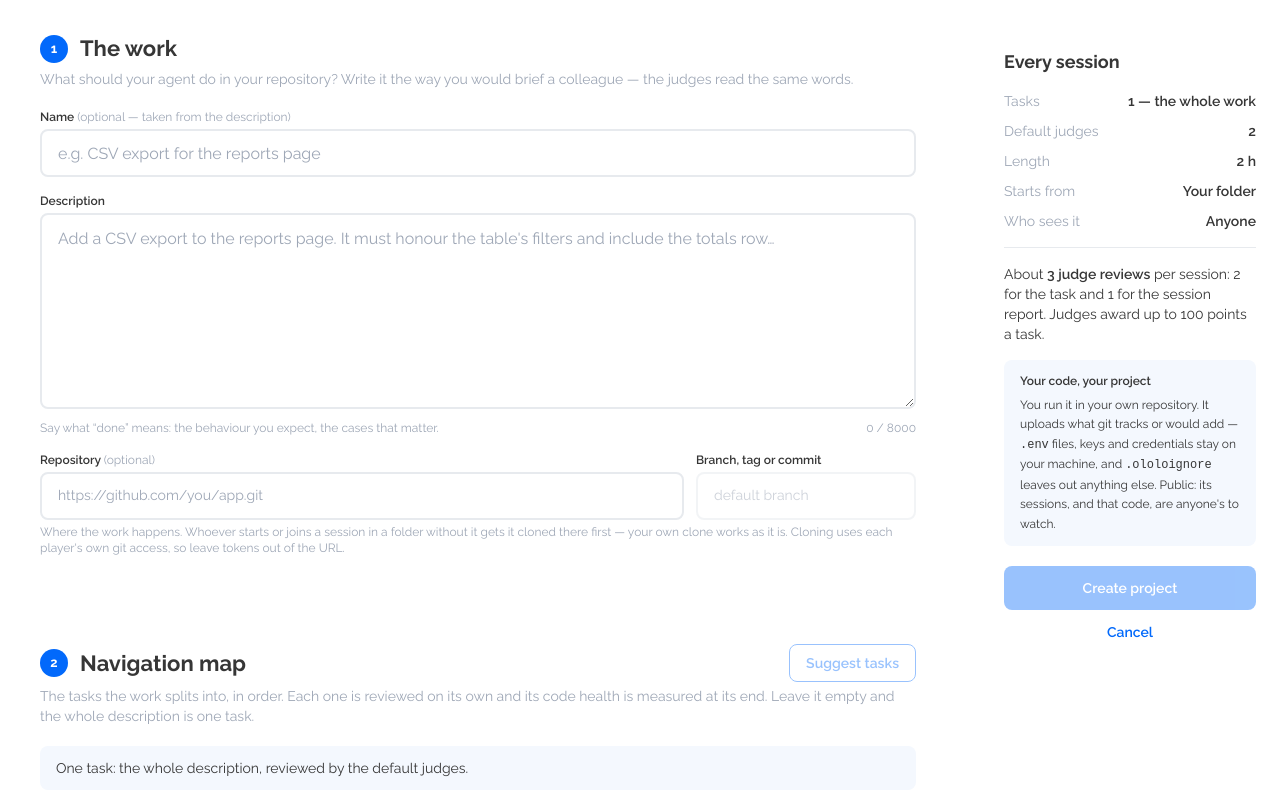
Scenario: PersonalProjectForm › names the repository the work happens in, and its ref only beside one
Expected: the field with test id "pp-repo-ref" is disabled, [696,472,916,520]
Expected: the text with test id "pp-repo-summary" reads "Your folder", [1183,183,1256,199]
Type "git@github.com:me/app.git" into the field with test id "pp-repo-url" at (362, 496), box [40,472,684,520]
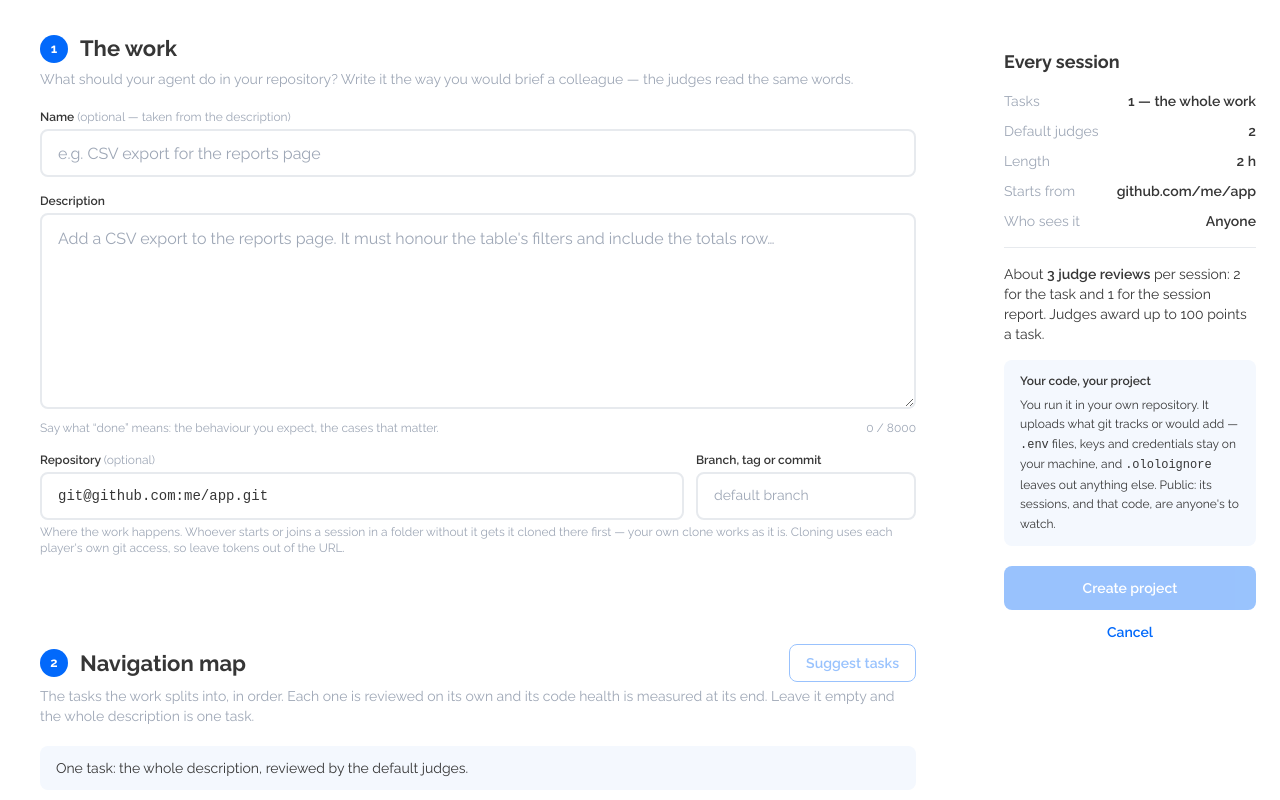
Now the field with test id "pp-repo-ref" is enabled, box [696,472,916,520]
Now the text with test id "pp-repo-summary" reads "github.com/me/app", box [1117,183,1256,199]
